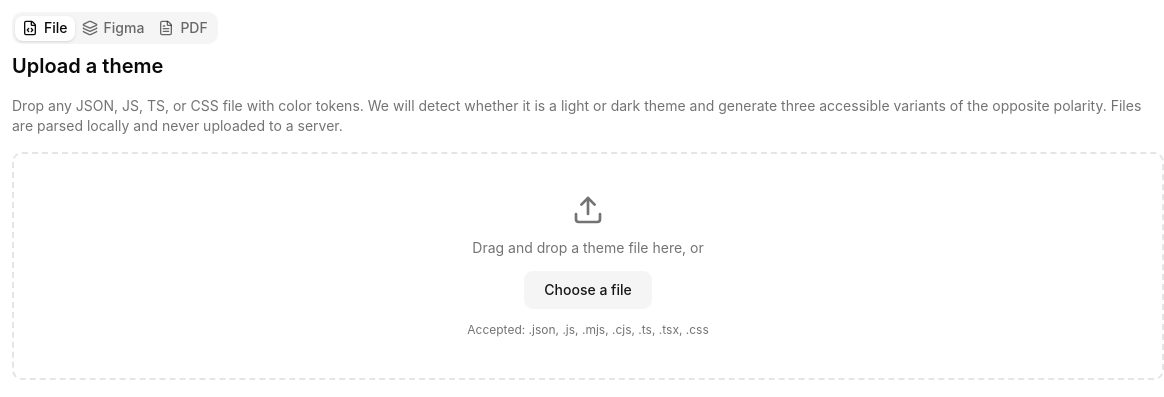
SourceTabs › switches to the PDF tab and shows the PDF form
The width and height of the screenshot is (1164, 397).
Click the tab "PDF": {"x": 183, "y": 28} [151,16,215,40]
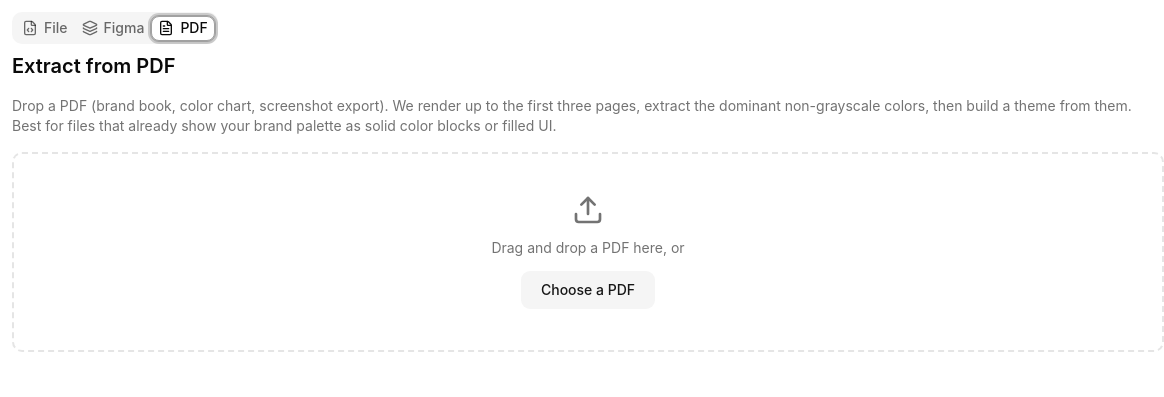
Result: the heading "Extract from PDF" is shown at [12,54,176,78]
Result: the element named "pdf drop zone" is shown at [12,152,1163,352]
